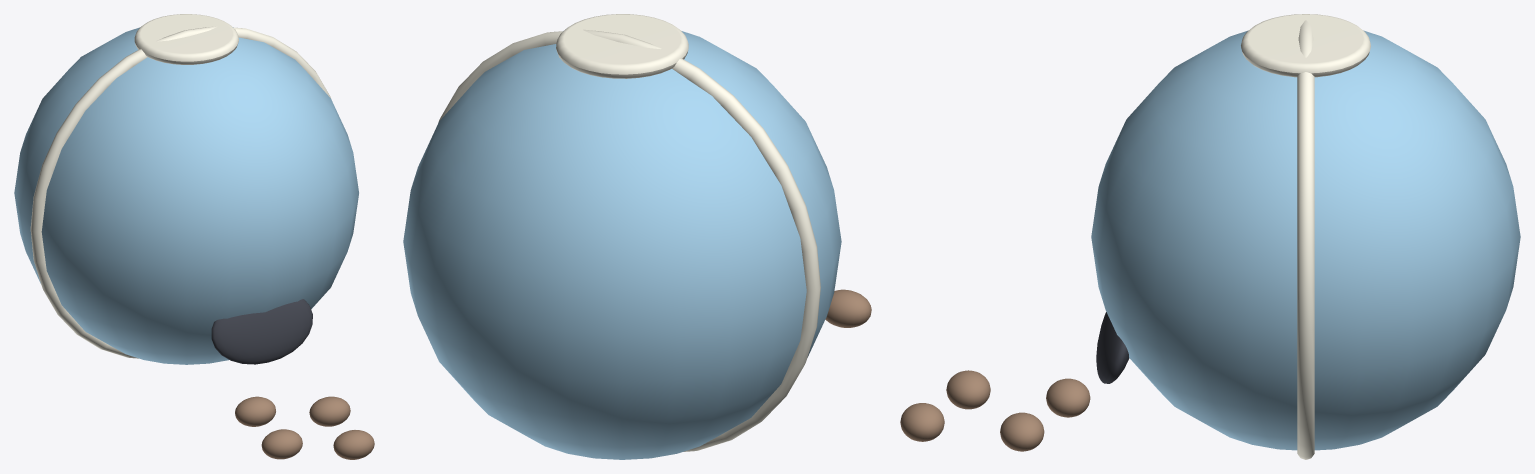
The model's file is kibbleDispenser.glb.
3 views of the same model, side by side, from view 1: azimuth 30°, elevation 25°; view 2: azimuth 150°, elevation 25°; view 3: azimuth 270°, elevation 25° (orthographic). The views are drawn at different scales.
Parts seen in each view (by area): view 1: Rolling dispenser body, Dispenser seam, Kibble outlet, Refill cap, Feeder kibble.002, Feeder kibble.001, Feeder kibble, Feeder kibble.003; view 2: Rolling dispenser body, Dispenser seam, Refill cap, Feeder kibble.002; view 3: Rolling dispenser body, Dispenser seam, Refill cap, Kibble outlet, Feeder kibble.002, Feeder kibble, Feeder kibble.001, Feeder kibble.003.
Boxes of the visible parts, left/top/right/bottom form: Rolling dispenser body: left=14, top=27, right=358, bottom=364; Dispenser seam: left=30, top=26, right=331, bottom=358; Kibble outlet: left=211, top=299, right=312, bottom=364; Refill cap: left=134, top=14, right=238, bottom=64; Feeder kibble.002: left=261, top=429, right=302, bottom=459; Feeder kibble.001: left=309, top=396, right=350, bottom=426; Feeder kibble: left=235, top=396, right=275, bottom=426; Feeder kibble.003: left=333, top=430, right=374, bottom=459; Rolling dispenser body: left=403, top=31, right=841, bottom=459; Dispenser seam: left=438, top=29, right=820, bottom=451; Refill cap: left=556, top=14, right=688, bottom=78; Feeder kibble.002: left=825, top=289, right=871, bottom=327; Rolling dispenser body: left=1091, top=30, right=1520, bottom=450; Dispenser seam: left=1297, top=20, right=1314, bottom=459; Refill cap: left=1241, top=14, right=1370, bottom=77; Kibble outlet: left=1096, top=312, right=1129, bottom=383; Feeder kibble.002: left=946, top=370, right=990, bottom=409; Feeder kibble: left=1046, top=378, right=1090, bottom=417; Feeder kibble.001: left=1000, top=412, right=1044, bottom=451; Feeder kibble.003: left=900, top=403, right=944, bottom=441.
Size of the model in its own units: 0.582 by 0.582 by 0.809.
